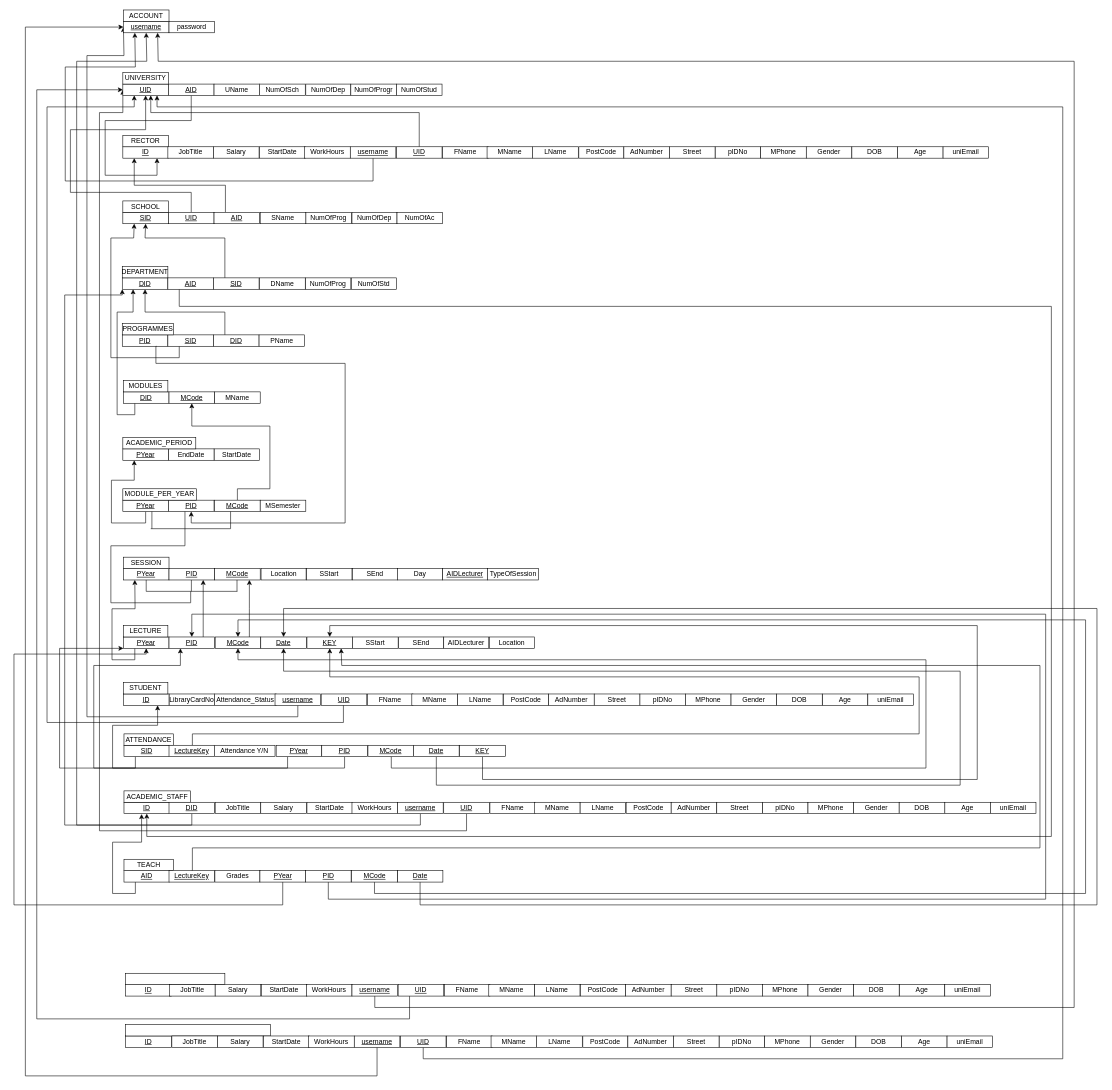
Some shapes in this 1112 by 1090 pixel diagram are drawn without their labels. The box of each missing label's shape, as (x1, y1, x2, y2) in pixels:
ADMIN_OFFICE_ACADEMICS: (125, 973, 225, 985)
STUDENT_SUPPORT_OFFICE_ACADEMICS: (125, 1024, 270, 1036)
